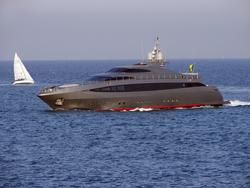fanchuan: (13, 50, 34, 85)
yacht: (35, 32, 225, 112)
